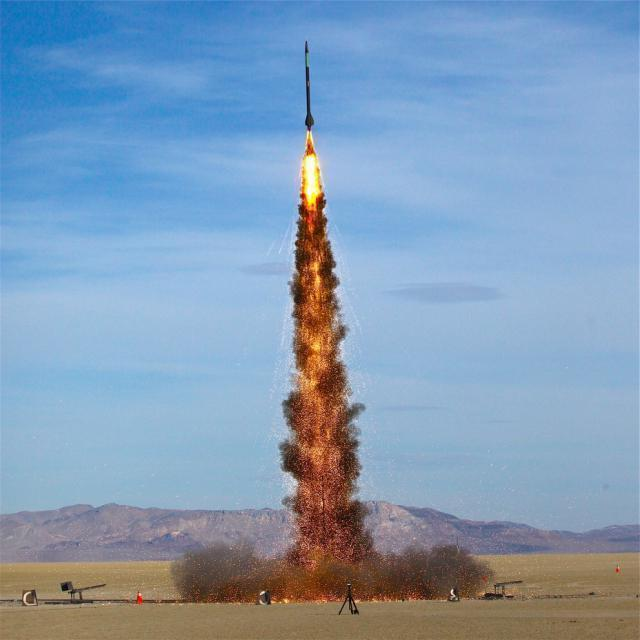missile: (302, 33, 320, 144)
